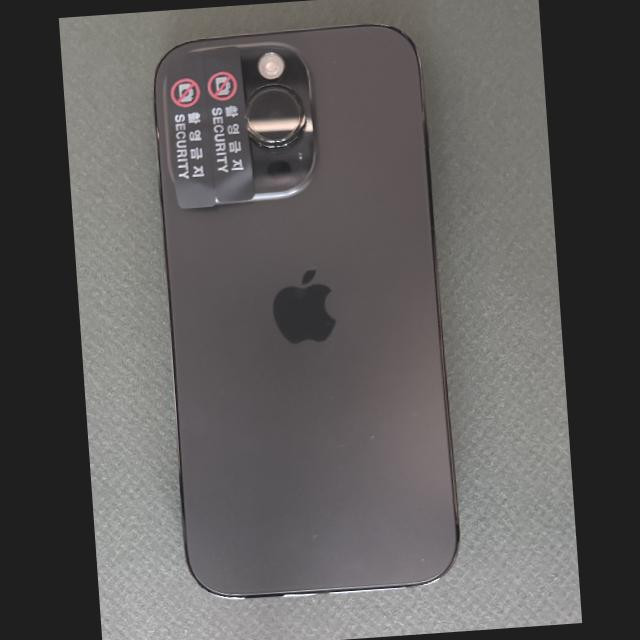lens: (245, 84, 306, 147)
phone: (155, 26, 458, 596)
sticker: (200, 46, 254, 201), (168, 52, 215, 208)
